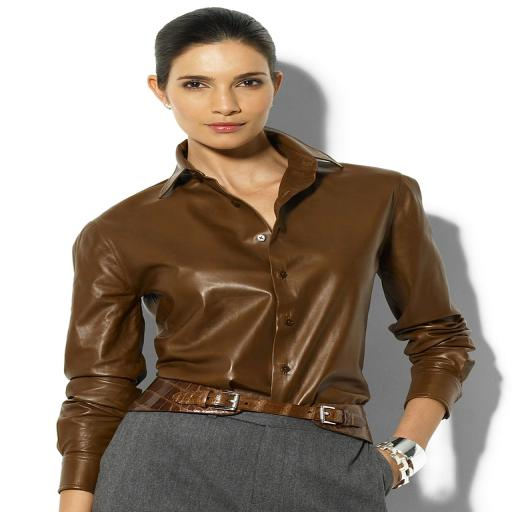Person: (84, 6, 405, 510)
no_goggle: (185, 71, 275, 99)
no_helmet: (175, 9, 274, 60)
none: (150, 168, 354, 412)
